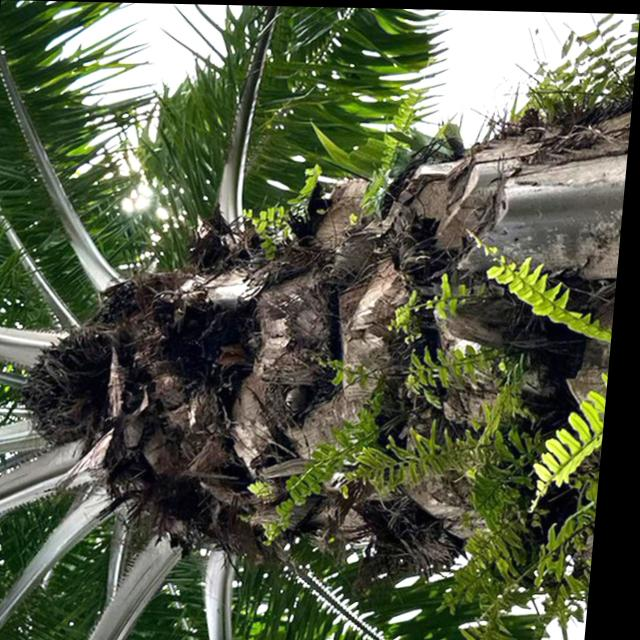almost: (16, 323, 130, 451)
